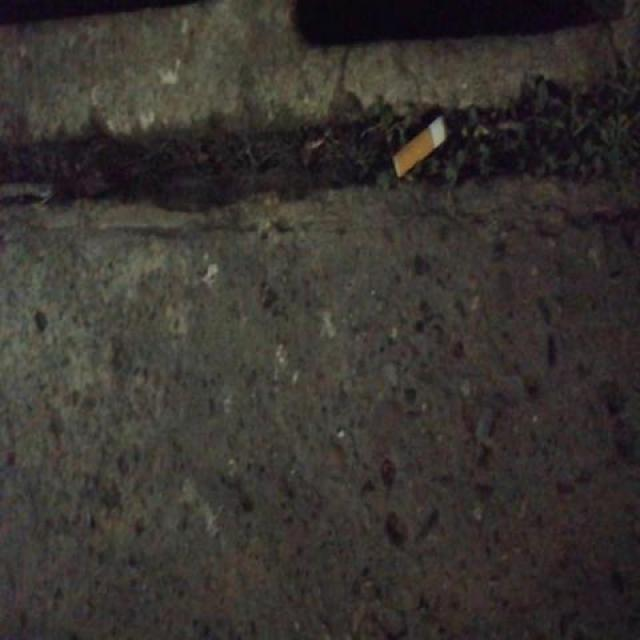non-organic waste: (388, 107, 451, 186)
